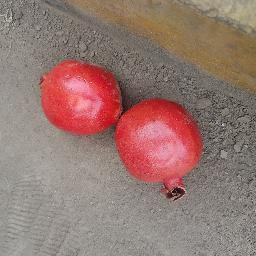Good_pomegranate: (112, 98, 210, 202), (37, 57, 122, 134)
